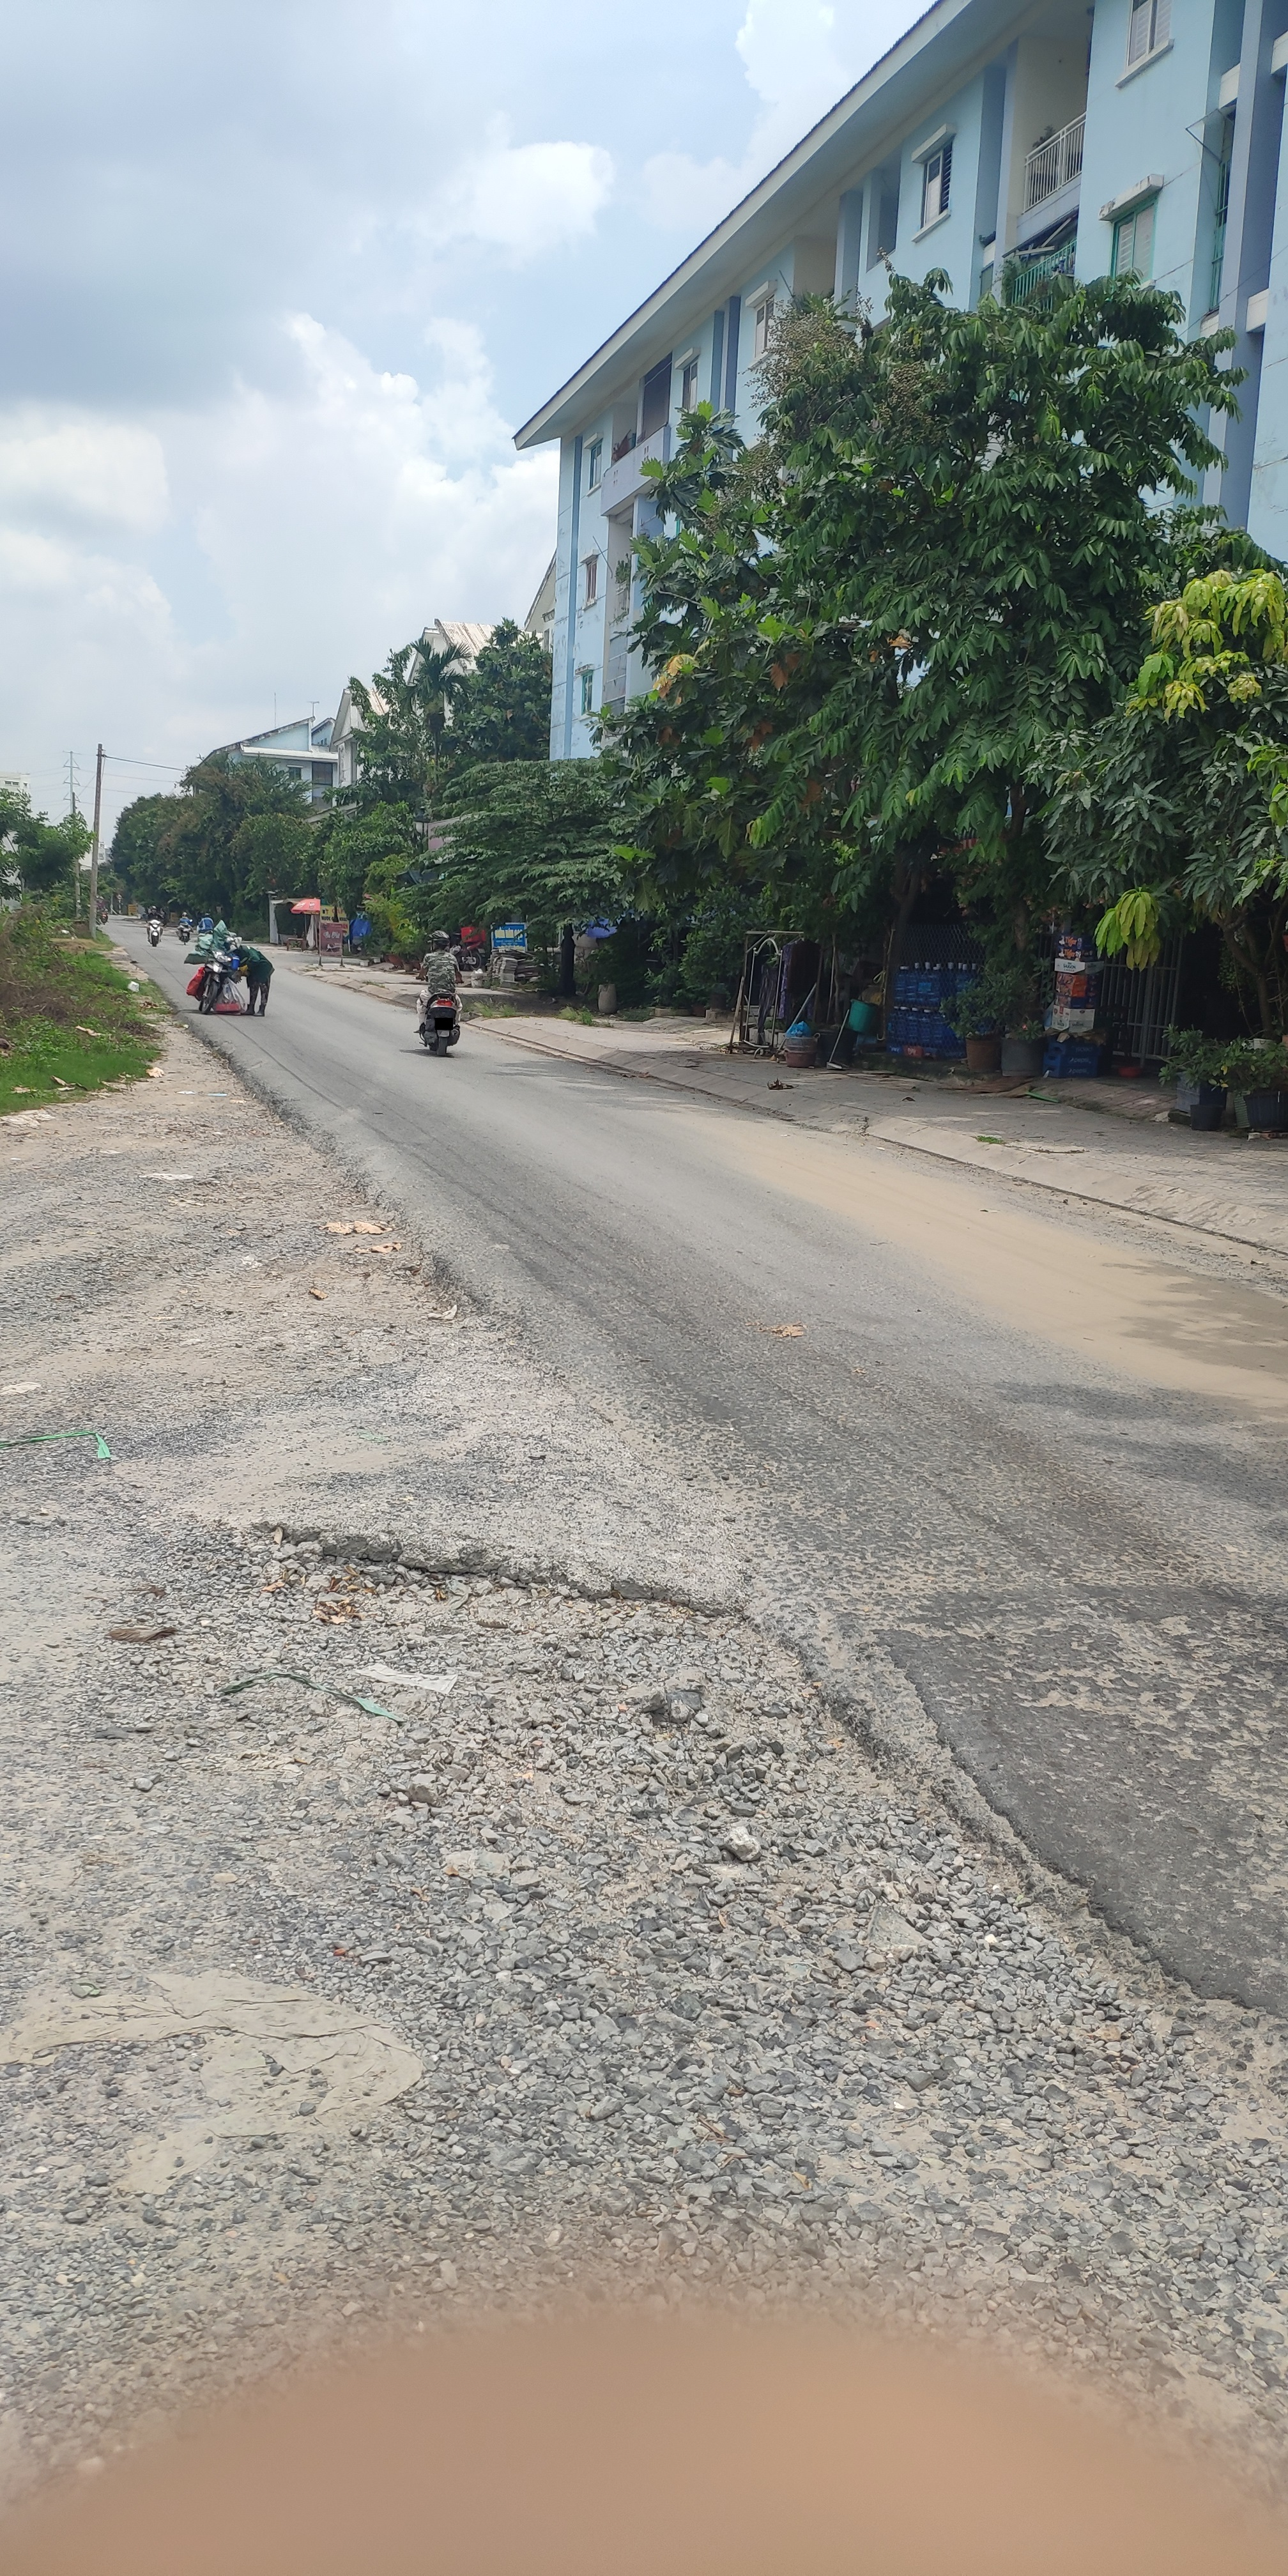hole: (258, 1490, 785, 1820), (1015, 1587, 1288, 1817)
